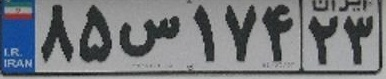character: (115, 3, 183, 64), (36, 2, 77, 67), (221, 1, 261, 64), (77, 2, 115, 68), (261, 2, 299, 65), (184, 3, 220, 66), (342, 13, 378, 68), (306, 13, 340, 70)
